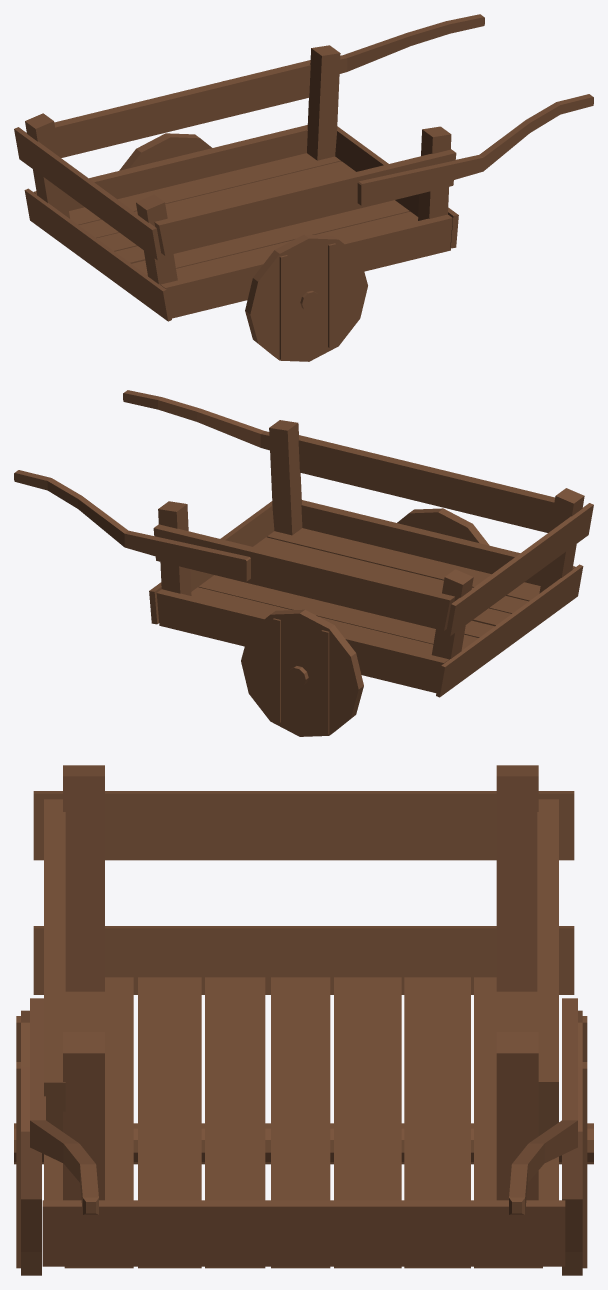
The model's file is LowBrownCart.fbx.
3 views of the same model, one above another, from view 1: azimuth 30°, elevation 25°; view 2: azimuth 150°, elevation 25°; view 3: azimuth 270°, elevation 25° (orthographic). The views are drawn at different scales.
Parts seen in each view (by area): view 1: LowBrownCart; view 2: LowBrownCart; view 3: LowBrownCart.
Part boxes in pixels (left/top/right/bottom): LowBrownCart: left=14, top=14, right=593, bottom=361; LowBrownCart: left=14, top=390, right=593, bottom=736; LowBrownCart: left=14, top=765, right=593, bottom=1275.
Size of the model in its own units: 9.44 by 3.65 by 5.33.
